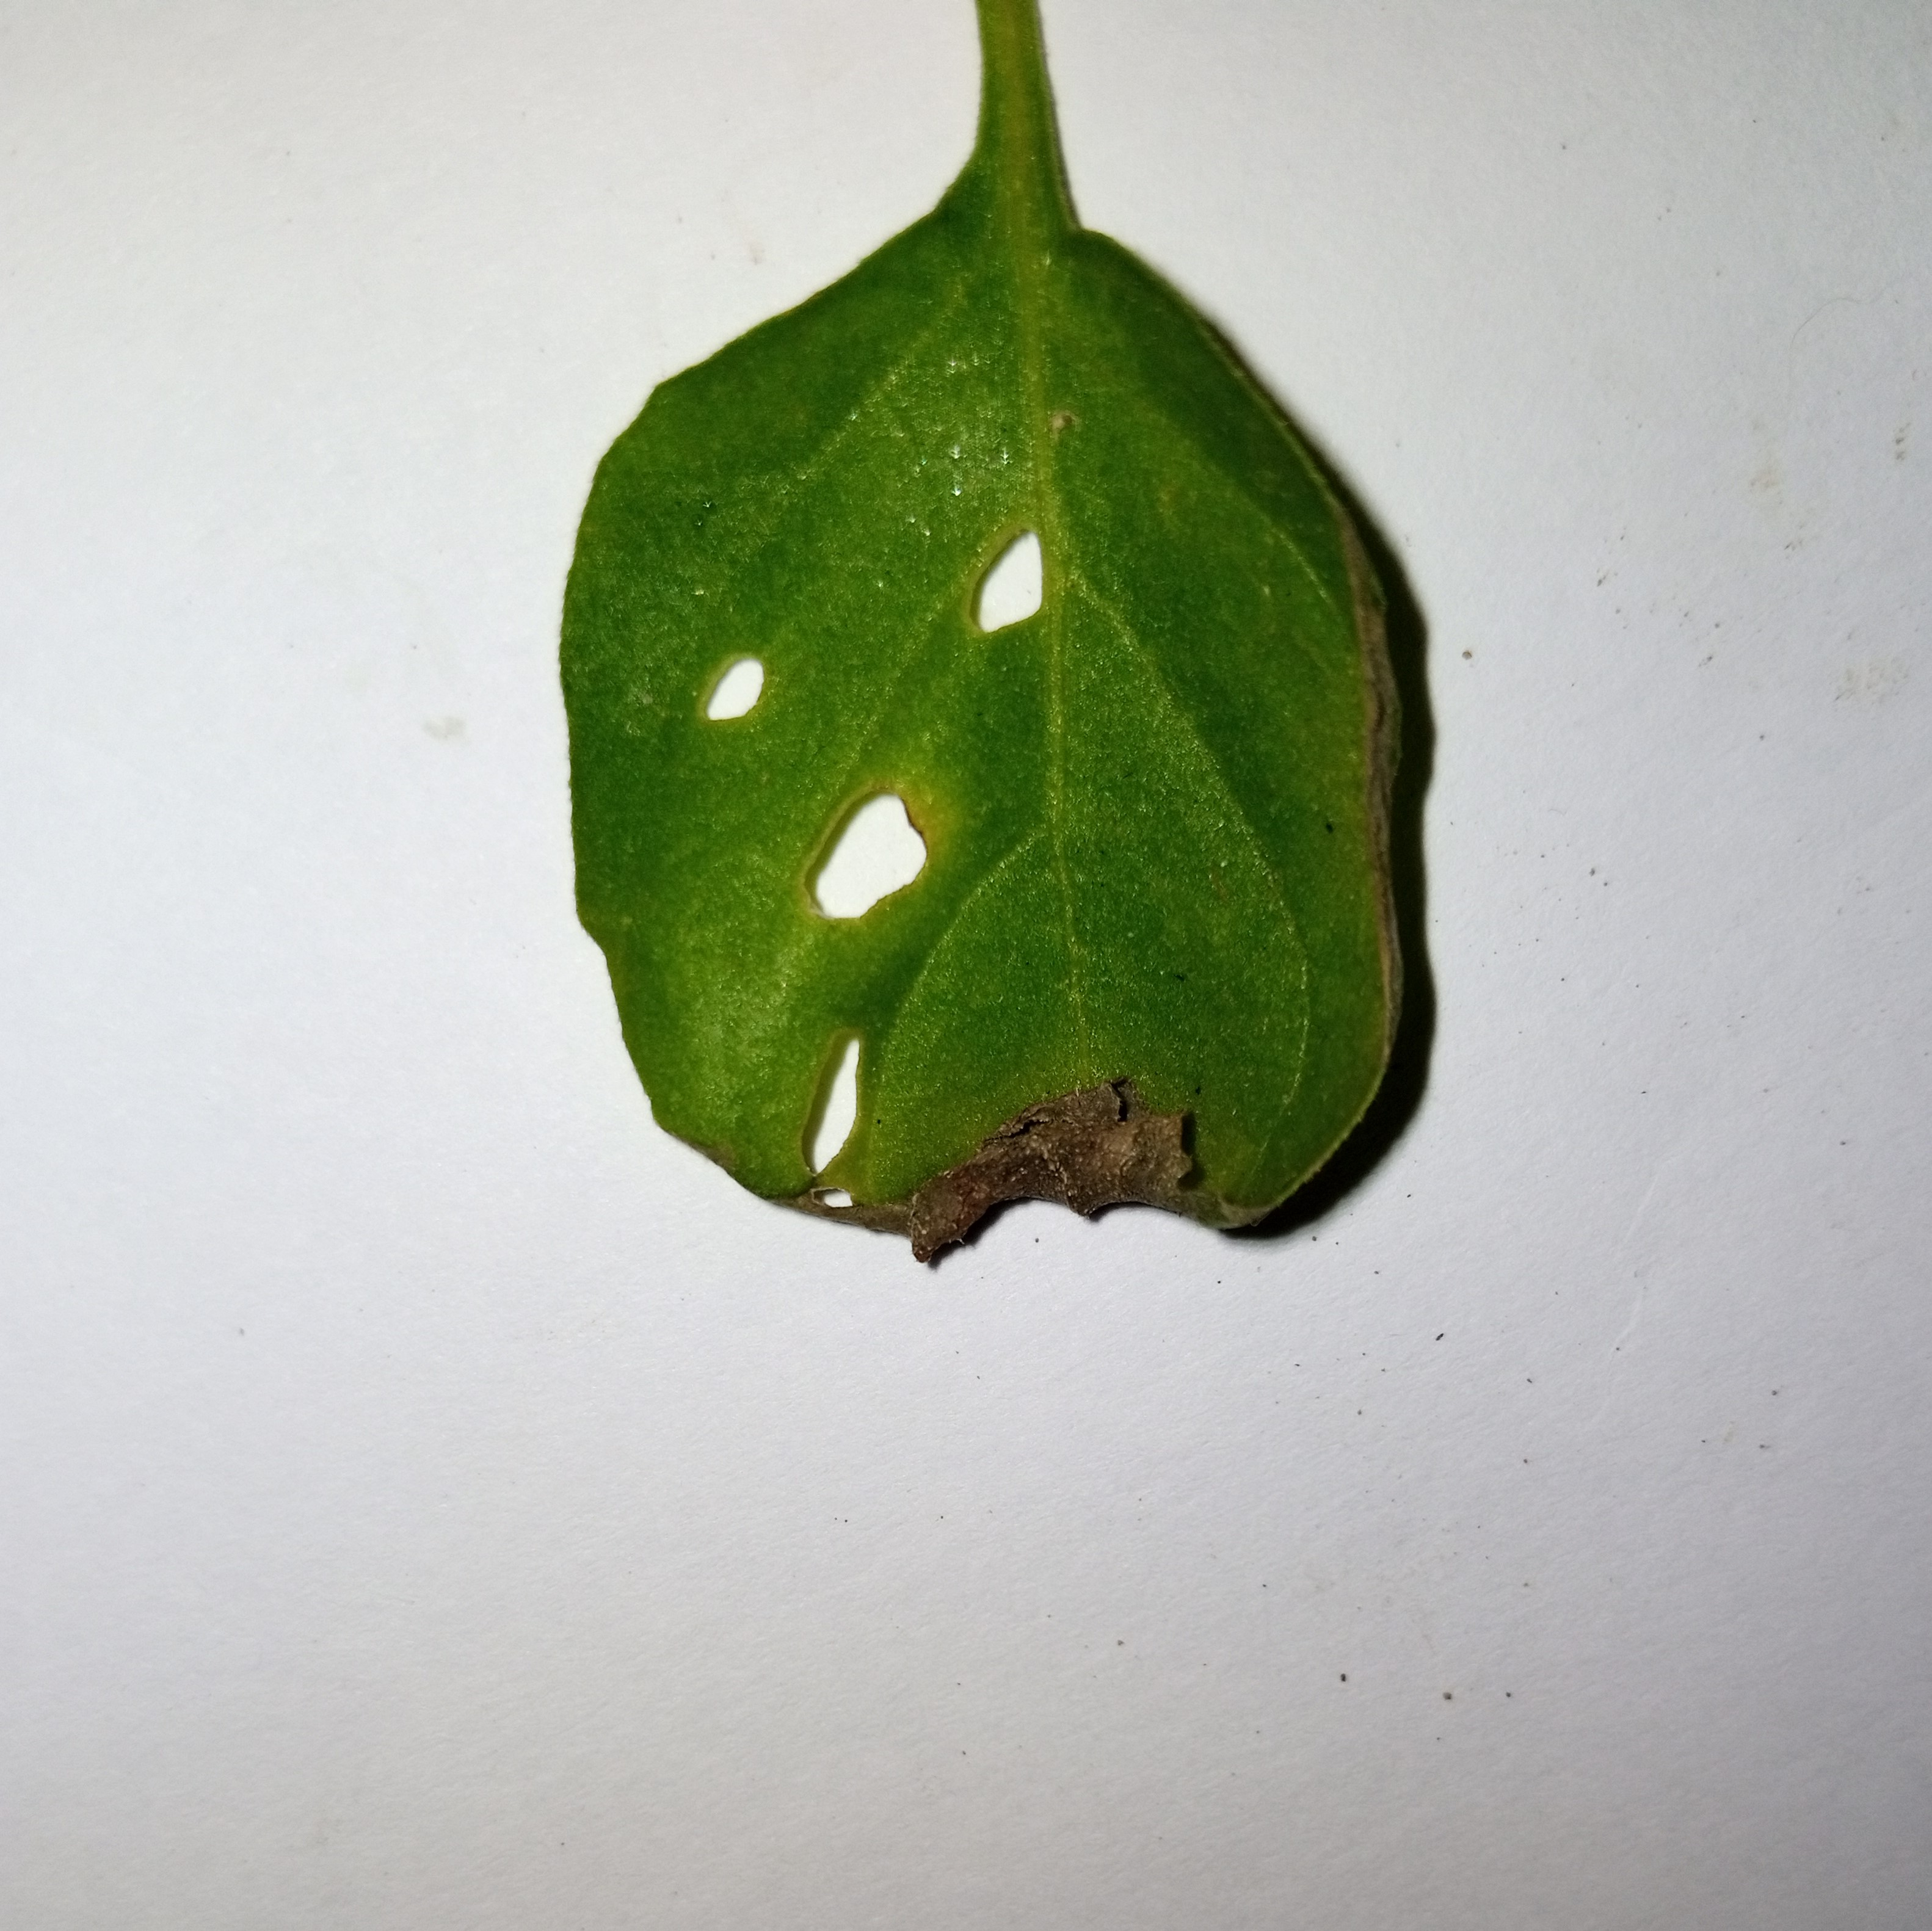Leaf: (453, 71, 1681, 1593)
